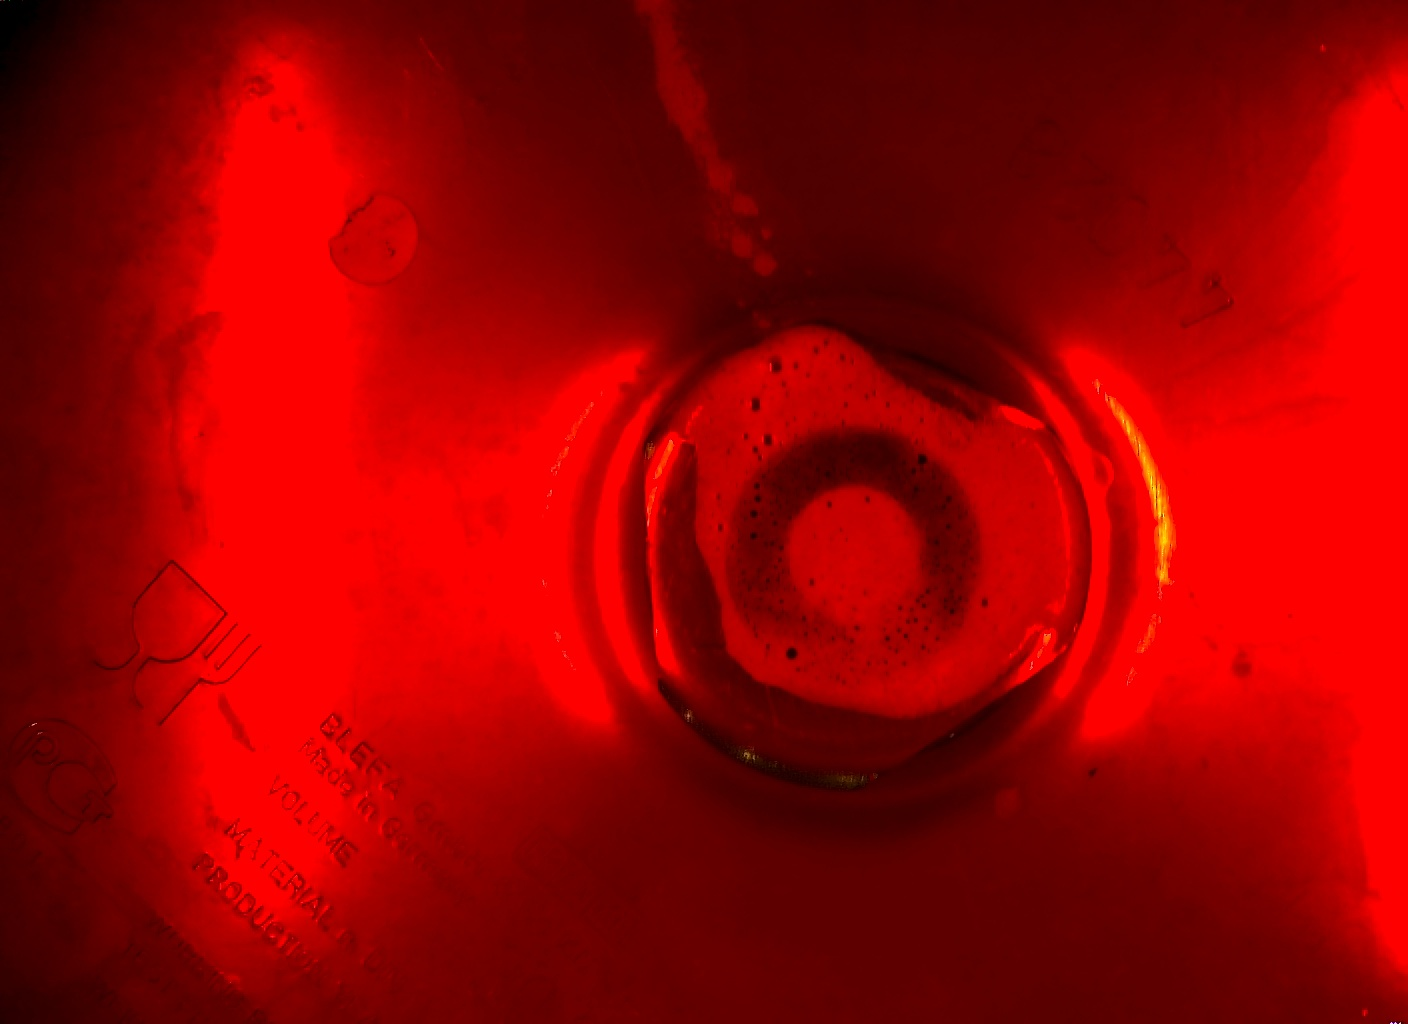shapka: (661, 316, 1084, 726)
